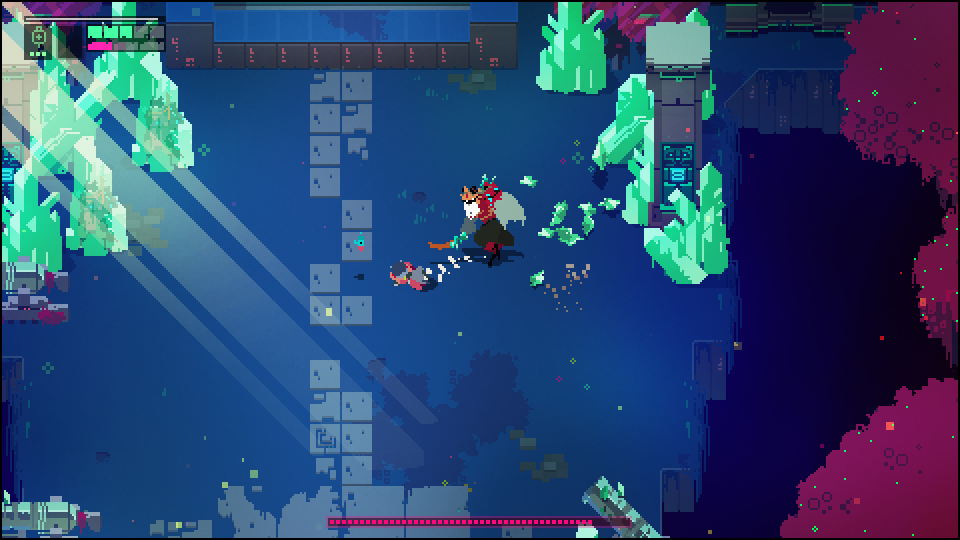hanged_man: (435, 170, 530, 266)
player: (385, 258, 446, 293)
